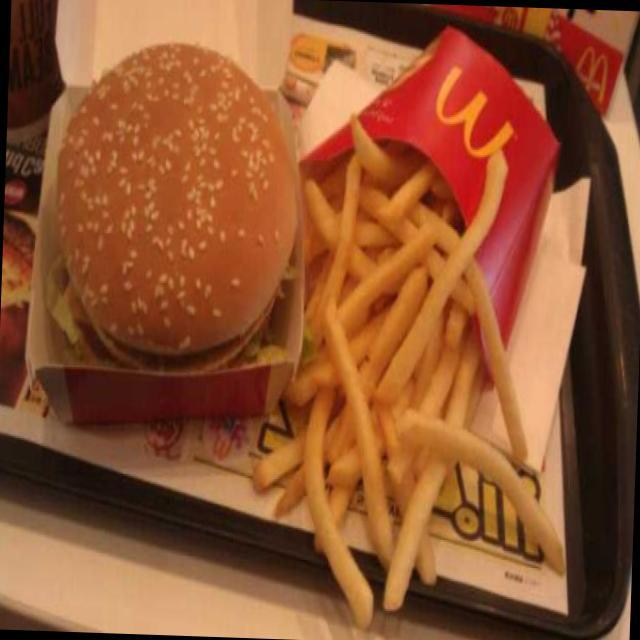French Fries: (276, 134, 518, 592)
Hamburger: (35, 29, 308, 418)
